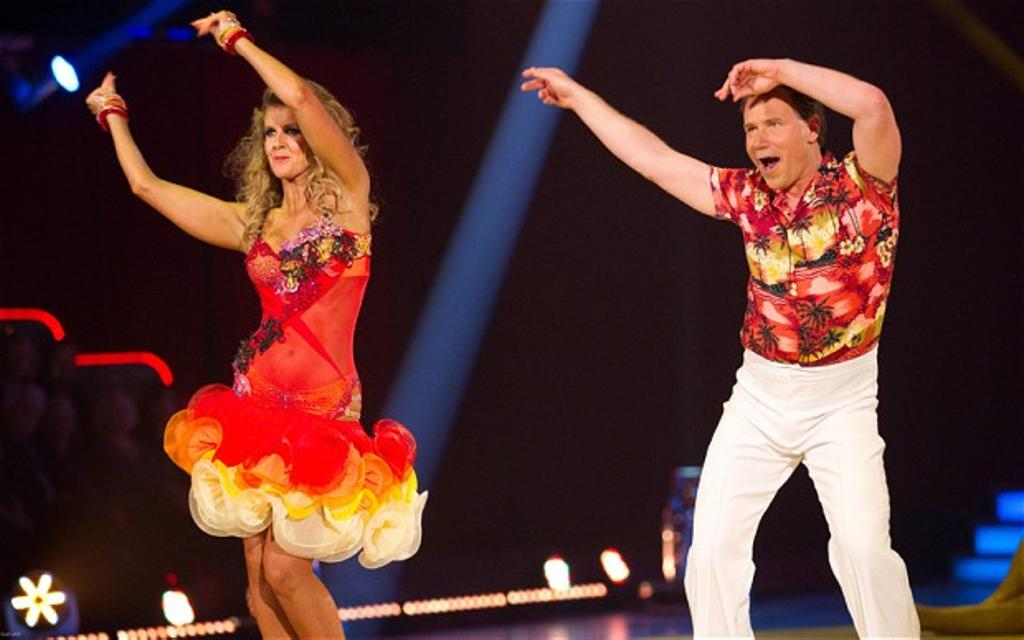face: (742, 98, 807, 190), (263, 107, 313, 178)
